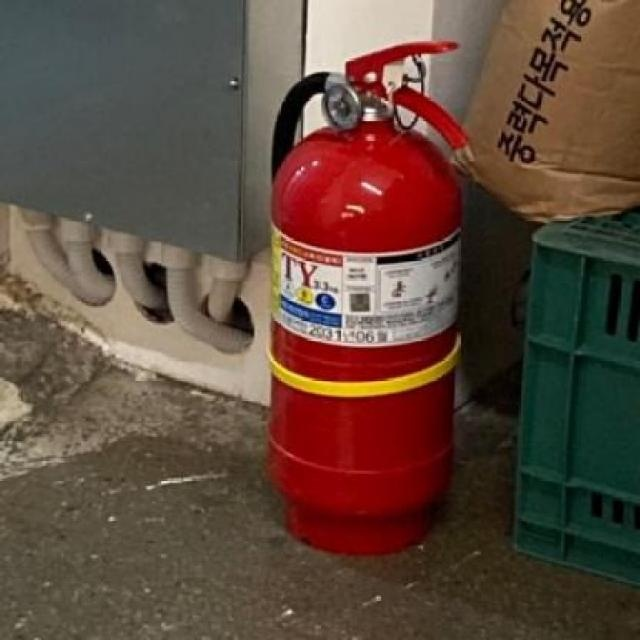fire extinguisher: (265, 40, 469, 555)
